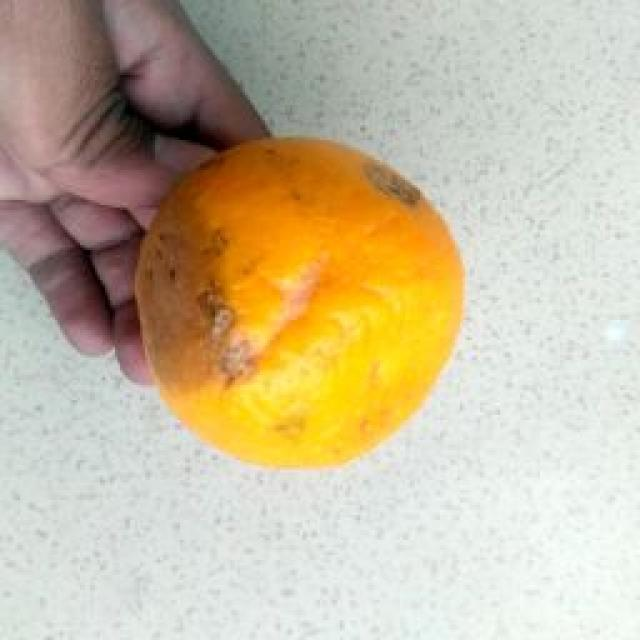Bad_Orange: (136, 138, 464, 467)
